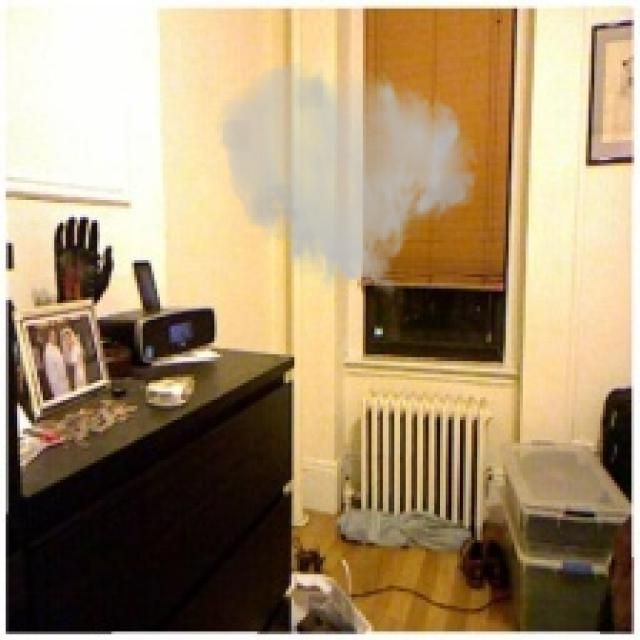Smoke: (215, 60, 480, 297)
